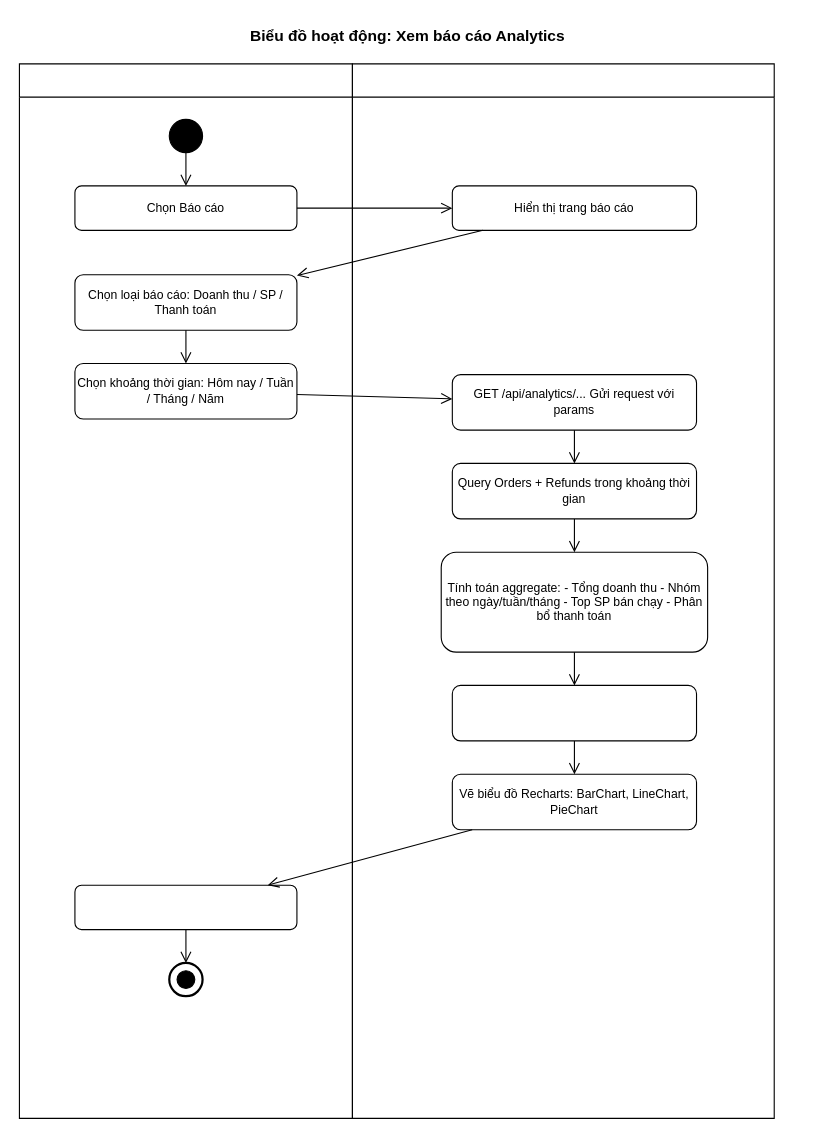
Image size: 816x1138. Some labels were removed from this diagram. Here are the shapes that lost their labels. From the top down, the box of each, then its label:
(18, 63, 352, 1118): Store Admin / Branch Manager
(351, 63, 774, 1118): Hệ thống
(451, 684, 697, 741): Trả về dữ liệu báo cáo (JSON)
(74, 884, 297, 930): Xem báo cáo trực quan
